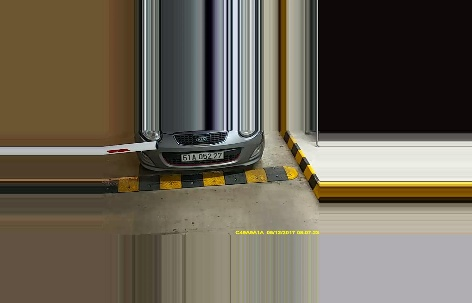plate: (180, 152, 223, 162)
